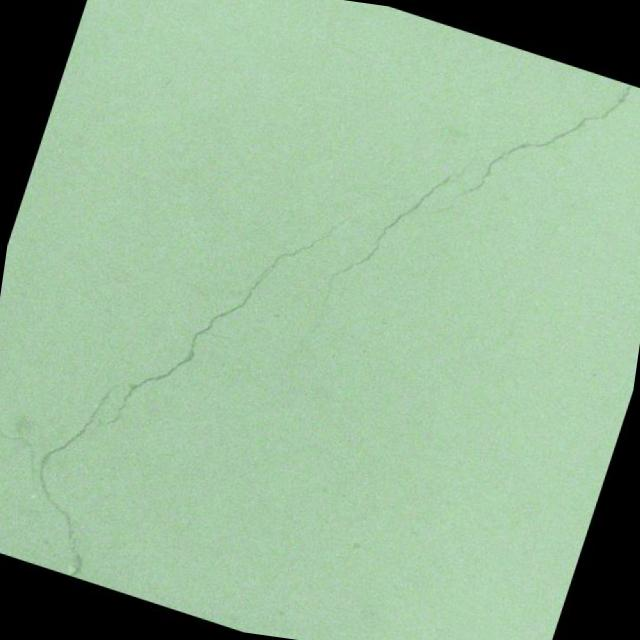crack: (86, 140, 379, 502), (284, 120, 477, 403), (422, 32, 636, 268), (6, 362, 142, 582), (0, 405, 53, 480)
